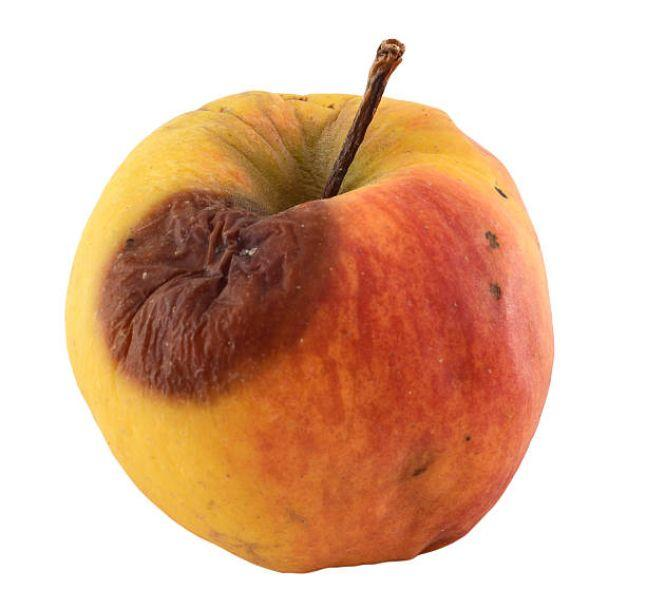ROT: (58, 65, 558, 564)
